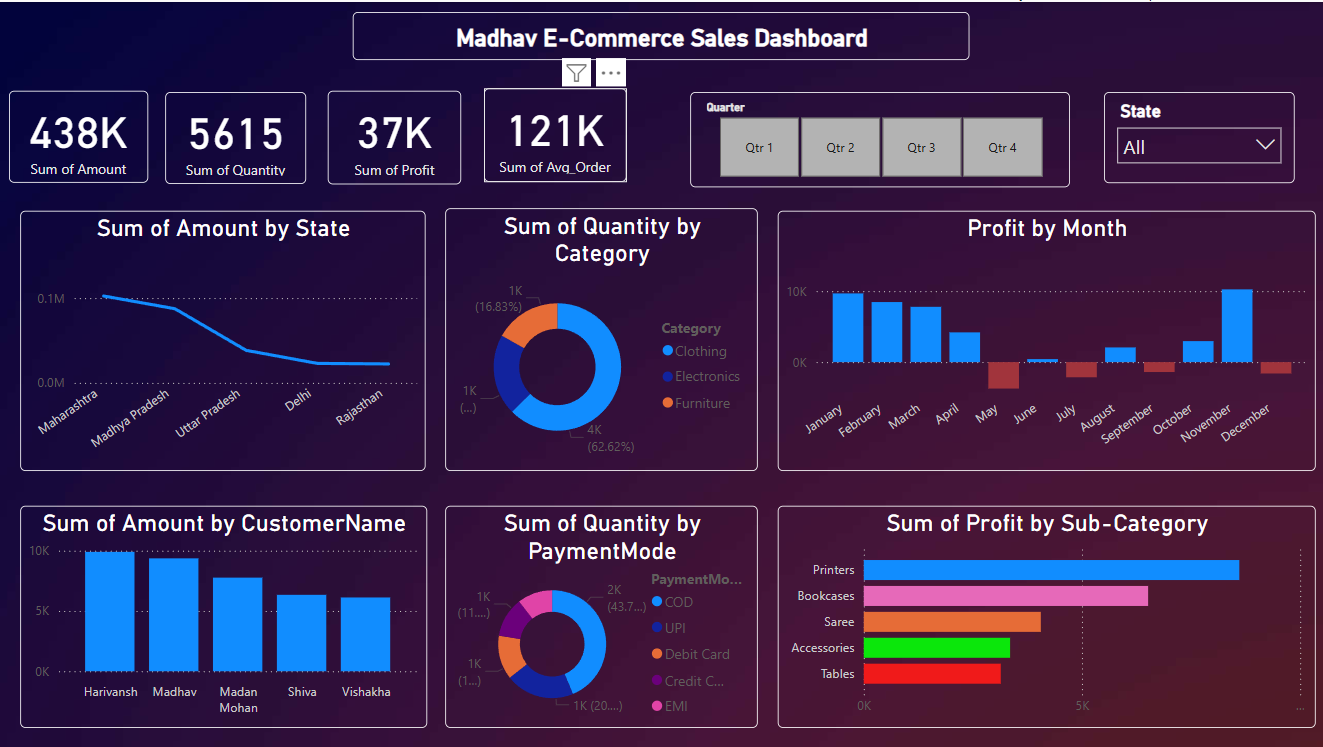

The dashboard page shown, as its layout file describes it:
{"tool":"powerbi","page":{"name":"Page 1","canvas":[1280,720],"ordinal":0},"visuals":[{"type":"textbox","title":"Madhav E-Commerce Sales Dashboard","box":[341.7,9.6,595.5,46.7],"z":0},{"type":"columnChart","title":"Profit by Month","fields":{"Y":["Details.Profit"],"Category":["Orders.Order Date.Variation.Date Hierarchy.Month"]},"box":[752.2,201.2,519,251.5],"z":1000},{"type":"barChart","fields":{"Category":["Details.Sub-Category"],"Y":["Details.Profit"]},"box":[752.2,485.9,519,214.7],"z":2000},{"type":"donutChart","fields":{"Category":["Details.Category"],"Y":["Details.Quantity"]},"box":[430.7,198.8,301.8,254],"z":3000},{"type":"donutChart","fields":{"Category":["Details.PaymentMode"],"Y":["Details.Quantity"]},"box":[430.7,485.9,301.8,214.7],"z":4000},{"type":"card","fields":{"Values":["Details.Amount"]},"box":[9.6,85.1,134.5,89.2],"z":5000},{"type":"card","fields":{"Values":["Details.Quantity"]},"box":[160.5,86.4,135.8,89.2],"z":6000},{"type":"card","fields":{"Values":["Details.Profit"]},"box":[317,85.1,129,90.6],"z":7000},{"type":"card","fields":{"Values":["Details.Avg_Order"]},"box":[467.9,83.7,137.2,90.6],"z":8000},{"type":"lineChart","fields":{"Category":["Orders.State"],"Y":["Details.Amount"]},"box":[20.6,201.7,391.1,251.1],"z":9000},{"type":"columnChart","fields":{"Category":["Orders.CustomerName"],"Y":["Details.Amount"]},"box":[20.6,485.8,392.5,214.1],"z":10000},{"type":"slicer","fields":{"Values":["Orders.Order Date.Variation.Date Hierarchy.Quarter"]},"box":[666.9,86.4,366.4,91.9],"z":10001},{"type":"slicer","fields":{"Values":["Orders.State"]},"box":[1066.2,86.4,183.9,87.8],"z":10002}]}

Visuals, with their boxes in screenshot pixels (x1, y1, x2, y2), scaled from the page's 1280x720 canvas onto the 1323x747 screenshot:
"Madhav E-Commerce Sales Dashboard" textbox: (353,10,969,58)
"Profit by Month" columnChart: (777,209,1314,470)
barChart - Details.Sub-Category x Details.Profit: (777,504,1314,727)
donutChart - Details.Category x Details.Quantity: (445,206,757,470)
donutChart - Details.PaymentMode x Details.Quantity: (445,504,757,727)
card - Details.Amount: (10,88,149,181)
card - Details.Quantity: (166,90,306,182)
card - Details.Profit: (328,88,461,182)
card - Details.Avg_Order: (484,87,625,181)
lineChart - Orders.State x Details.Amount: (21,209,426,470)
columnChart - Orders.CustomerName x Details.Amount: (21,504,427,726)
slicer - Orders.Order Date.Variation.Date Hierarchy.Quarter: (689,90,1068,185)
slicer - Orders.State: (1102,90,1292,181)
